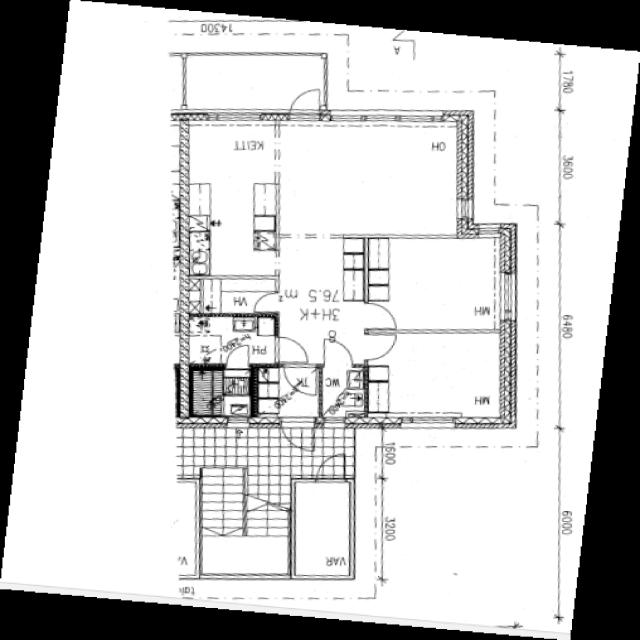door: (185, 315, 278, 367), (318, 363, 367, 418), (286, 85, 324, 121), (282, 364, 319, 398), (363, 329, 398, 363), (278, 415, 312, 450), (274, 334, 309, 364), (320, 338, 355, 368), (364, 302, 398, 332), (252, 291, 281, 315), (224, 344, 251, 369)
window: (497, 269, 520, 325), (400, 414, 456, 432), (552, 49, 568, 110), (206, 108, 263, 125), (456, 197, 474, 220)
zone: (278, 126, 463, 237), (368, 236, 508, 333), (368, 332, 508, 422), (276, 236, 366, 362), (292, 478, 353, 580), (184, 124, 279, 186), (183, 312, 279, 366), (184, 278, 281, 316), (188, 366, 253, 416), (320, 366, 368, 419)
